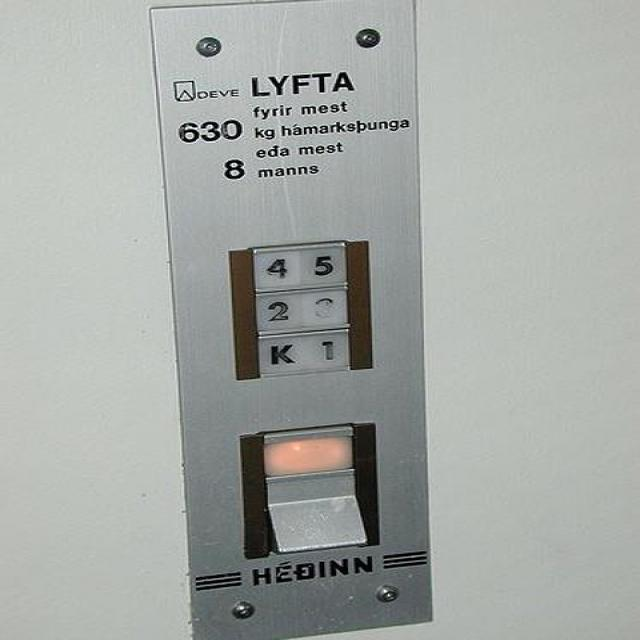1: (299, 325, 356, 373)
2: (248, 287, 305, 335)
3: (297, 282, 355, 330)
4: (247, 244, 304, 292)
5: (293, 241, 351, 289)
K: (252, 331, 309, 379)
